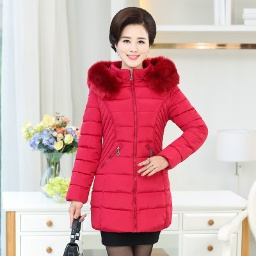face: (104, 1, 160, 76)
